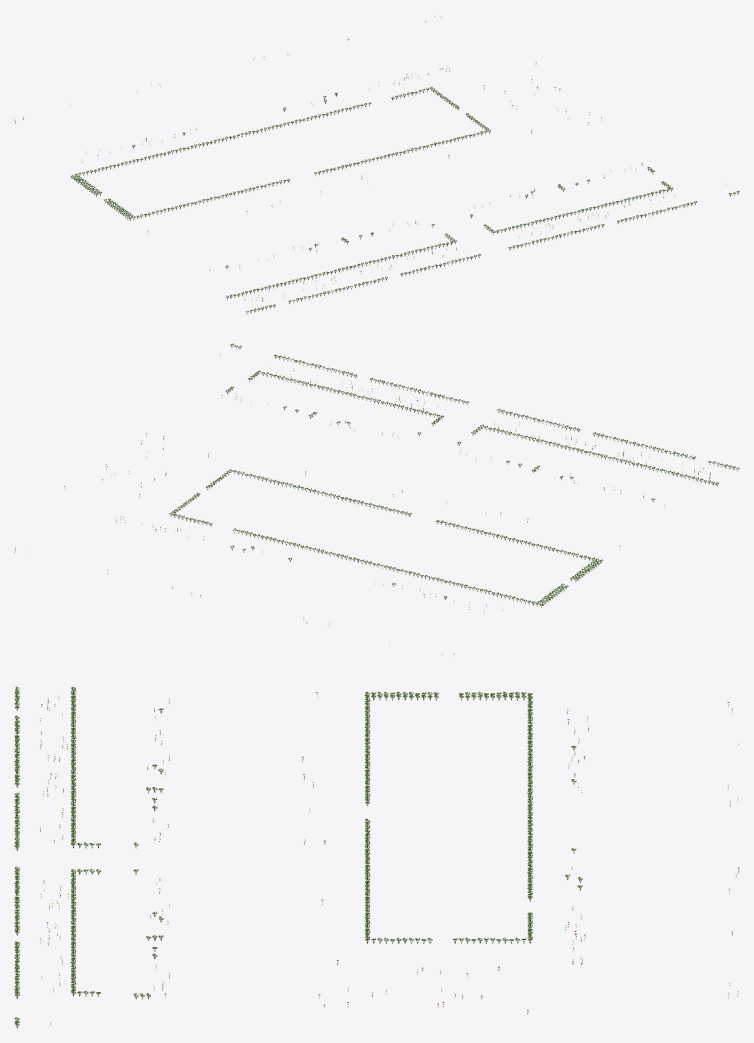
The picture shows the model from 3 angles, top to bottom: view 1: azimuth 30°, elevation 25°; view 2: azimuth 150°, elevation 25°; view 3: azimuth 270°, elevation 25°; orthographic projection. The views are drawn at different scales.
Visible parts, largest first — view 1: GROUND_FLORA_s_-5_-4; view 2: GROUND_FLORA_s_-5_-4; view 3: GROUND_FLORA_s_-5_-4.
Part boxes in pixels (left/top/right/bottom): GROUND_FLORA_s_-5_-4: left=14, top=14, right=739, bottom=314; GROUND_FLORA_s_-5_-4: left=14, top=343, right=739, bottom=656; GROUND_FLORA_s_-5_-4: left=14, top=686, right=739, bottom=1028.
Bounding box in the file's own units: 128 × 0.9729 × 116.
